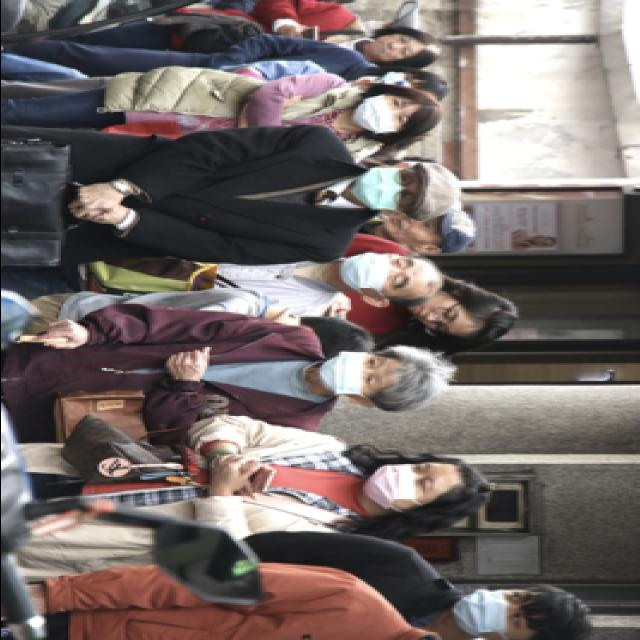with_mask: (448, 588, 536, 638), (359, 462, 442, 508), (317, 352, 393, 398), (338, 253, 422, 293), (352, 166, 417, 212), (350, 94, 412, 136), (374, 70, 422, 92)
without_mask: (408, 296, 466, 339), (364, 32, 422, 67), (379, 216, 446, 242)
